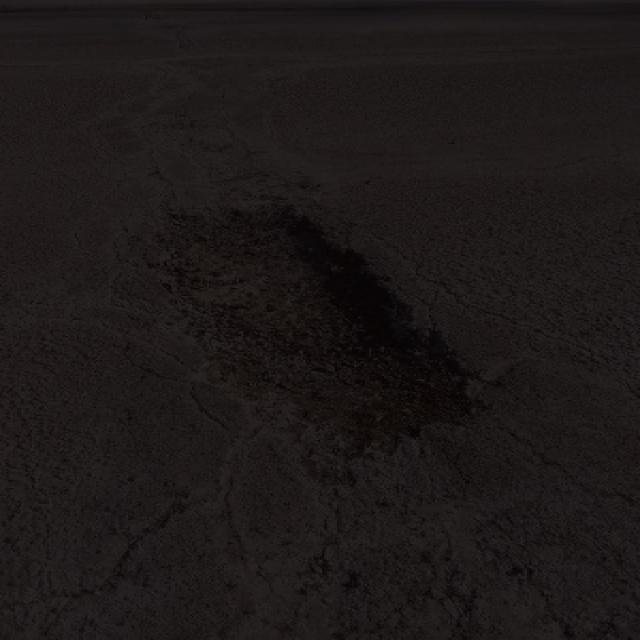Pothole: (131, 188, 488, 488)
